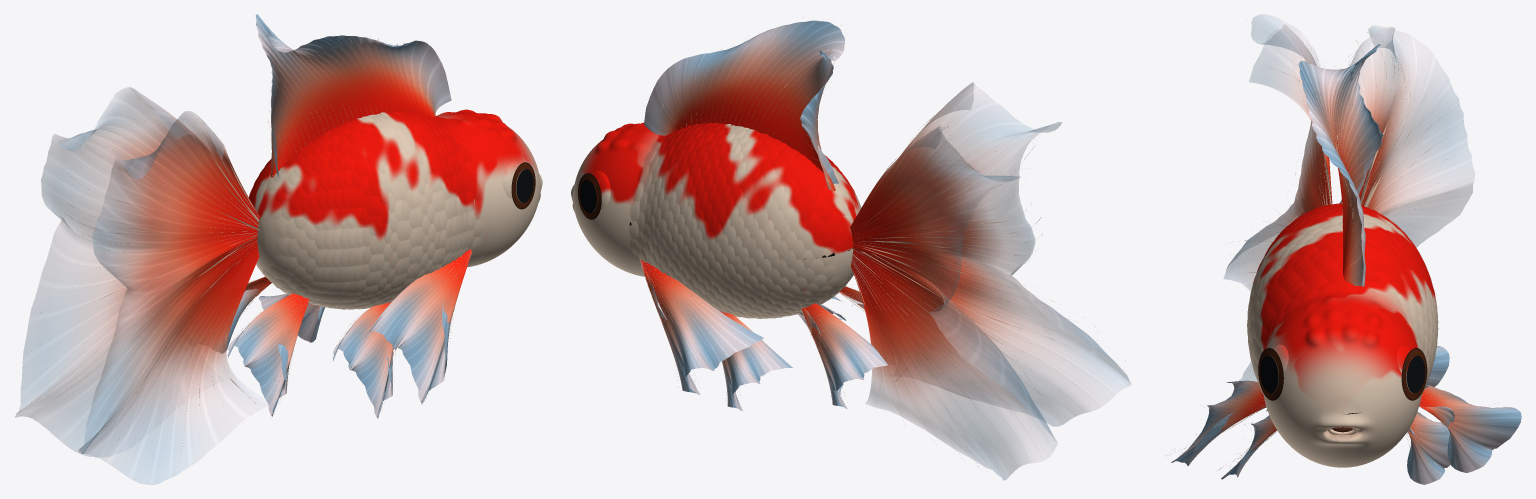
The model's file is aib-goldfish-v5.glb.
The picture shows the model from 3 angles, left to right: view 1: azimuth 30°, elevation 25°; view 2: azimuth 150°, elevation 25°; view 3: azimuth 270°, elevation 25°; orthographic projection. The views are drawn at different scales.
Parts seen in each view (by area): view 1: fin_caudal_GF_R_VeilTail_PondV5, fin_caudal_GF_L_VeilTail_PondV5, GF_Scales_Overlapping_Pearl_PondV5, fin_dorsal_GF_Dorsal_Sail_PondV5, GF_Body_UnifiedSilhouette_PondV5, fin_pectoral_GF_L_Pectoral_PondV5, fin_anal_GF_L_Anal_PondV5, fin_pelvic_GF_L_Pelvic_PondV5, fin_caudal_GF_L_VeilTail_FinRays_PondV5, fin_pelvic_GF_R_Pelvic_PondV5, fin_anal_GF_R_Anal_PondV5; view 2: fin_caudal_GF_R_VeilTail_PondV5, fin_caudal_GF_L_VeilTail_PondV5, GF_Scales_Overlapping_Pearl_PondV5, fin_dorsal_GF_Dorsal_Sail_PondV5, GF_Body_UnifiedSilhouette_PondV5, fin_pectoral_GF_R_Pectoral_PondV5, fin_anal_GF_R_Anal_PondV5, fin_pelvic_GF_R_Pelvic_PondV5, fin_caudal_GF_R_VeilTail_FinRays_PondV5; view 3: GF_Body_UnifiedSilhouette_PondV5, fin_caudal_GF_R_VeilTail_PondV5, GF_Scales_Overlapping_Pearl_PondV5, fin_dorsal_GF_Dorsal_Sail_PondV5, fin_caudal_GF_L_VeilTail_PondV5, fin_pectoral_GF_R_Pectoral_PondV5, fin_pelvic_GF_R_Pelvic_PondV5, fin_pectoral_GF_L_Pectoral_PondV5, fin_pelvic_GF_L_Pelvic_PondV5, fin_caudal_GF_R_VeilTail_FinRays_PondV5, eye_lens_GF_L_GlossyPupil_PondV5, eye_lens_GF_R_GlossyPupil_PondV5 (+3 smaller).
Part boxes in pixels (x1=…): fin_caudal_GF_R_VeilTail_PondV5: x1=15, y1=87, x2=223, y2=457; fin_caudal_GF_L_VeilTail_PondV5: x1=78, y1=111, x2=268, y2=484; GF_Scales_Overlapping_Pearl_PondV5: x1=249, y1=111, x2=483, y2=309; fin_dorsal_GF_Dorsal_Sail_PondV5: x1=255, y1=14, x2=451, y2=177; GF_Body_UnifiedSilhouette_PondV5: x1=251, y1=109, x2=542, y2=307; fin_pectoral_GF_L_Pectoral_PondV5: x1=365, y1=249, x2=471, y2=405; fin_anal_GF_L_Anal_PondV5: x1=228, y1=293, x2=309, y2=416; fin_pelvic_GF_L_Pelvic_PondV5: x1=333, y1=302, x2=393, y2=418; fin_caudal_GF_L_VeilTail_FinRays_PondV5: x1=92, y1=133, x2=259, y2=452; fin_pelvic_GF_R_Pelvic_PondV5: x1=259, y1=293, x2=324, y2=342; fin_anal_GF_R_Anal_PondV5: x1=211, y1=277, x2=271, y2=353; fin_caudal_GF_R_VeilTail_PondV5: x1=850, y1=126, x2=1057, y2=480; fin_caudal_GF_L_VeilTail_PondV5: x1=893, y1=82, x2=1131, y2=426; GF_Scales_Overlapping_Pearl_PondV5: x1=628, y1=123, x2=861, y2=318; fin_dorsal_GF_Dorsal_Sail_PondV5: x1=644, y1=20, x2=845, y2=191; GF_Body_UnifiedSilhouette_PondV5: x1=571, y1=122, x2=859, y2=283; fin_pectoral_GF_R_Pectoral_PondV5: x1=640, y1=260, x2=763, y2=394; fin_anal_GF_R_Anal_PondV5: x1=801, y1=303, x2=890, y2=408; fin_pelvic_GF_R_Pelvic_PondV5: x1=720, y1=311, x2=792, y2=411; fin_caudal_GF_R_VeilTail_FinRays_PondV5: x1=851, y1=126, x2=1041, y2=463; GF_Body_UnifiedSilhouette_PondV5: x1=1263, y1=290, x2=1421, y2=467; fin_caudal_GF_R_VeilTail_PondV5: x1=1349, y1=26, x2=1474, y2=247; GF_Scales_Overlapping_Pearl_PondV5: x1=1247, y1=203, x2=1438, y2=394; fin_dorsal_GF_Dorsal_Sail_PondV5: x1=1298, y1=44, x2=1383, y2=286; fin_caudal_GF_L_VeilTail_PondV5: x1=1224, y1=14, x2=1332, y2=381; fin_pectoral_GF_R_Pectoral_PondV5: x1=1419, y1=385, x2=1521, y2=472; fin_pelvic_GF_R_Pelvic_PondV5: x1=1407, y1=411, x2=1450, y2=484; fin_pectoral_GF_L_Pectoral_PondV5: x1=1171, y1=380, x2=1265, y2=465; fin_pelvic_GF_L_Pelvic_PondV5: x1=1221, y1=409, x2=1276, y2=479; fin_caudal_GF_R_VeilTail_FinRays_PondV5: x1=1356, y1=27, x2=1446, y2=212; eye_lens_GF_L_GlossyPupil_PondV5: x1=1260, y1=355, x2=1278, y2=393; eye_lens_GF_R_GlossyPupil_PondV5: x1=1406, y1=355, x2=1425, y2=393.
Size of the model in its own units: 2.2 by 1.64 by 1.2.
Materials: 11 (6 with a texture image).
